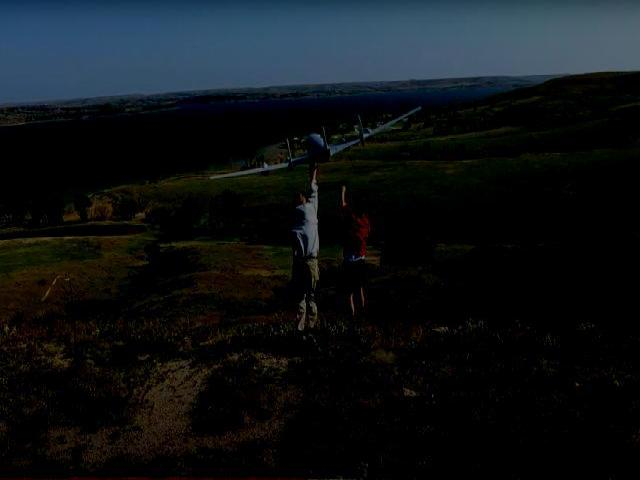iha: (211, 106, 420, 181)
